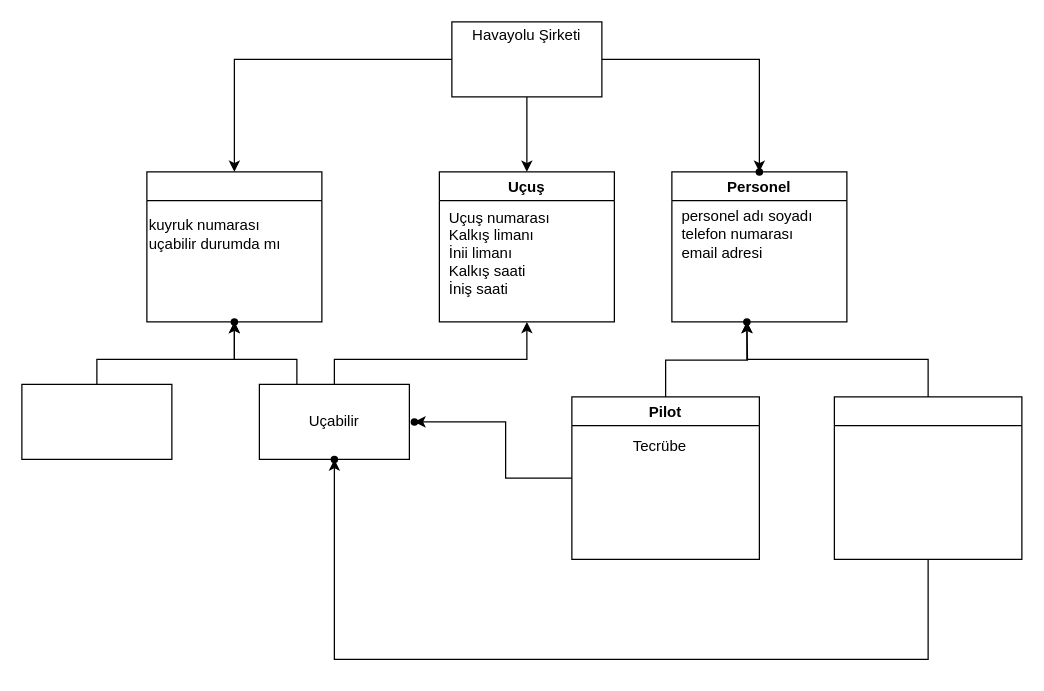
Image size: 1044x691. Some labels were removed from this diagram. The shapes that lost their labels are listed below. From the top down, each one's box as (x1, y1, x2, y2) in pixels, then its label:
(146, 171, 322, 322): Uçak
(21, 383, 172, 459): Bakımda
(833, 396, 1022, 559): Yardımcı pilot
